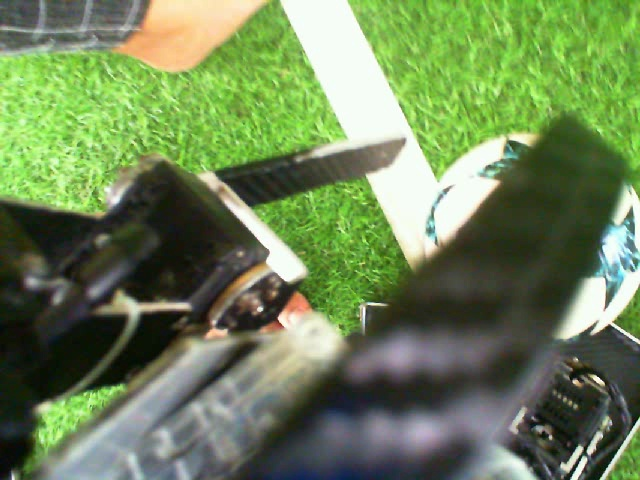ball: (418, 125, 545, 262)
